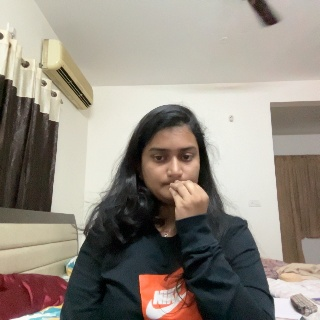Food: (168, 177, 217, 245)
